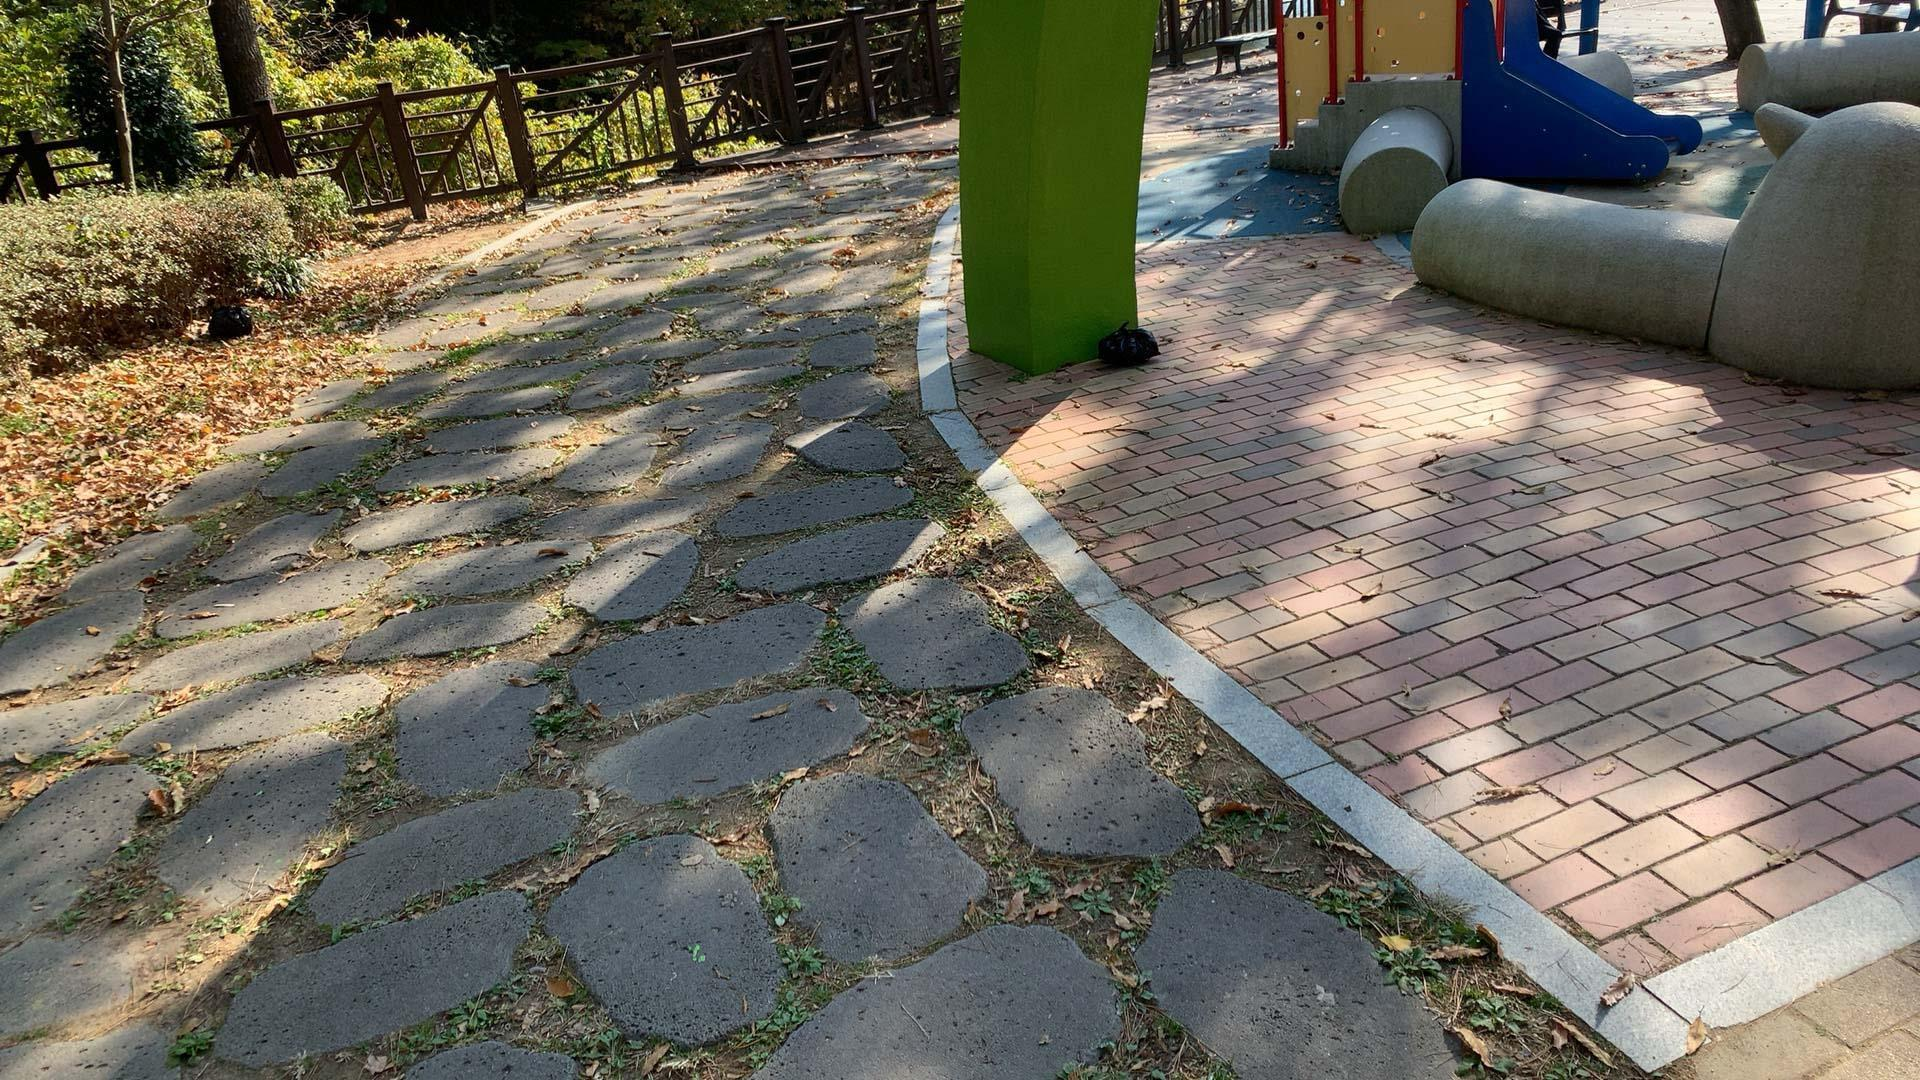black_bag: (1093, 318, 1160, 368)
